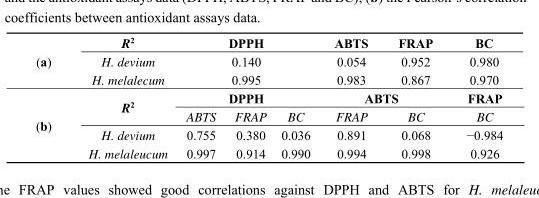table: (34, 34, 502, 160)
table column: (69, 34, 176, 160), (382, 34, 448, 160), (321, 34, 382, 160), (448, 34, 502, 160), (224, 34, 273, 160), (176, 34, 224, 160), (273, 34, 321, 160), (34, 34, 69, 160)
table row: (34, 106, 502, 125), (34, 34, 502, 52), (34, 52, 502, 70), (34, 70, 502, 88), (34, 88, 502, 106), (34, 125, 502, 143), (34, 143, 502, 160)
table spanning cell: (69, 88, 176, 125), (176, 34, 321, 52), (176, 52, 321, 70), (176, 70, 321, 88), (176, 88, 321, 106), (34, 88, 69, 160), (321, 88, 448, 106), (34, 34, 69, 88)
